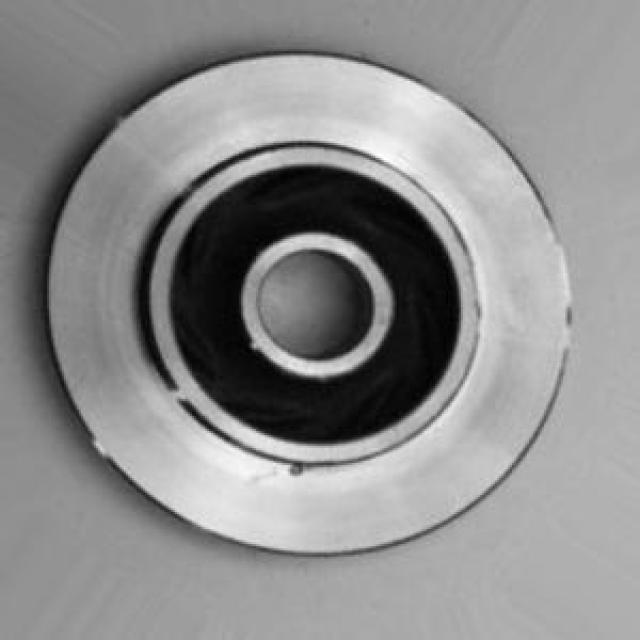Defect: (280, 444, 318, 486)
